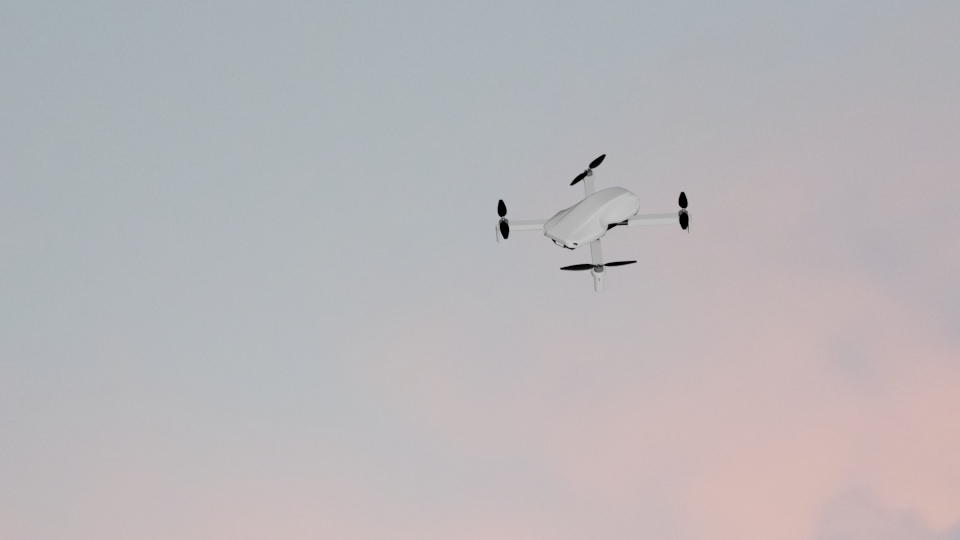drone: (496, 149, 689, 294)
